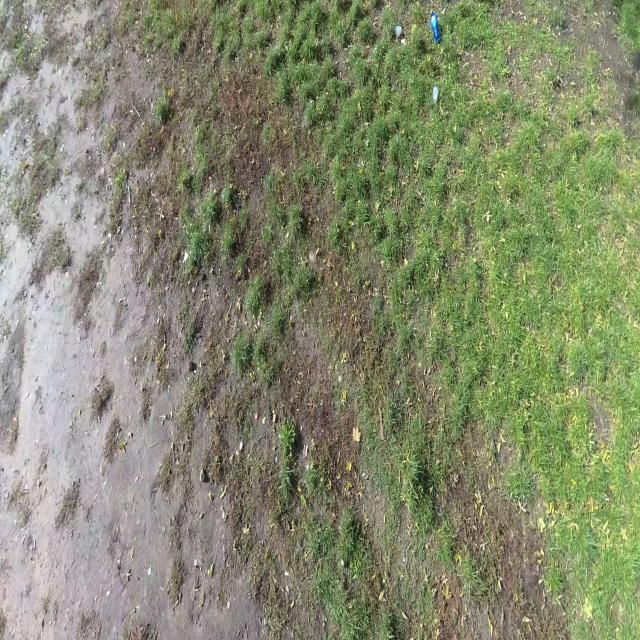rubbish: (430, 7, 441, 42), (432, 86, 439, 109), (396, 26, 403, 40)
